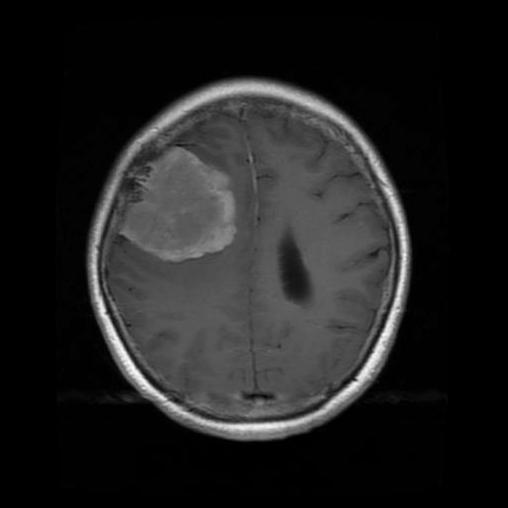Tumour-Pituitary: (97, 136, 250, 278)
